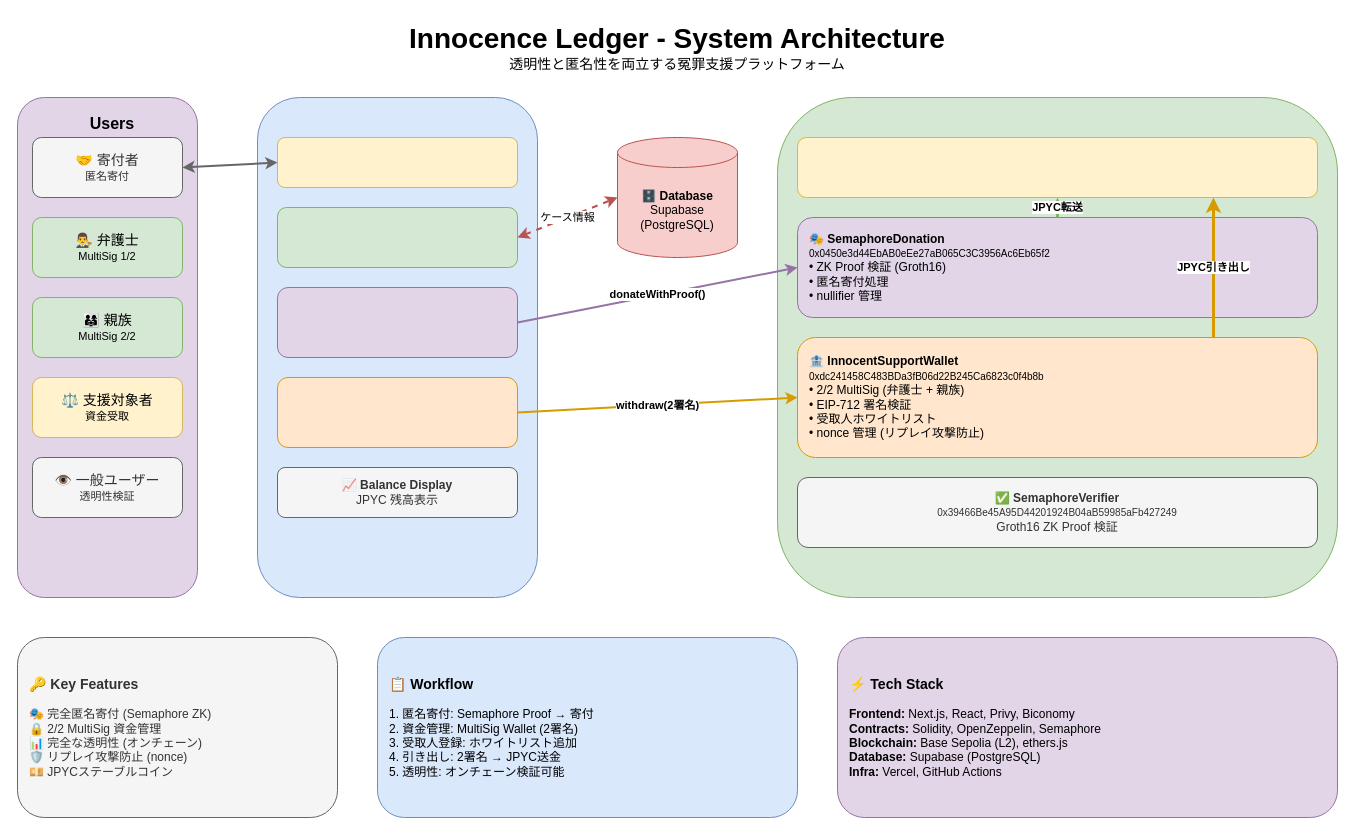
The diagram is 1355 pixels wide and 835 high, and some of its shapes have lost their labels. The shapes that lost their labels are listed below. From the top down, each one's box as (x1, y1, x2, y2) in pixels, then its label:
(276, 136, 518, 188): 🔐 Auth (Privy) ウォレット認証
(796, 136, 1318, 198): 💴 JPYC Token (ERC20) 0xda683fe053b4344F3Aa5Db6Cbaf3046F7755e5E1 ステーブルコイン
(276, 206, 518, 268): 📊 Dashboard ケース表示 (Supabase)
(276, 286, 518, 358): 💰 Donation Form ZK Proof 生成・寄付
(256, 96, 538, 598): Frontend (Next.js)
(776, 96, 1338, 598): Blockchain (Base Sepolia)
(276, 376, 518, 448): 💸 Withdrawal Form EIP-712 署名・引き出し
